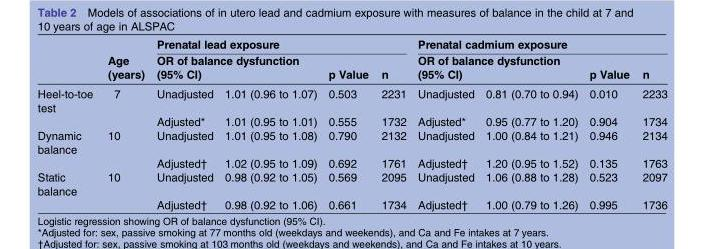table: (36, 36, 666, 210)
table column: (218, 36, 322, 210), (479, 36, 583, 210), (149, 36, 218, 210), (411, 36, 479, 210), (36, 36, 99, 210), (322, 36, 374, 210), (583, 36, 635, 210), (99, 36, 149, 210), (374, 36, 411, 210), (635, 36, 666, 210)
table column header: (36, 36, 666, 114)
table row: (36, 51, 666, 83), (36, 83, 666, 114), (36, 127, 666, 155), (36, 169, 666, 197), (36, 36, 666, 51), (36, 155, 666, 169), (36, 114, 666, 127), (36, 197, 666, 210)
table spanning cell: (149, 51, 322, 83), (411, 51, 583, 83), (36, 36, 99, 114), (149, 36, 411, 51), (99, 36, 149, 114), (411, 36, 666, 51), (322, 51, 374, 114), (583, 51, 635, 114), (36, 127, 99, 169), (36, 169, 99, 210), (374, 51, 411, 114), (635, 51, 666, 114)
